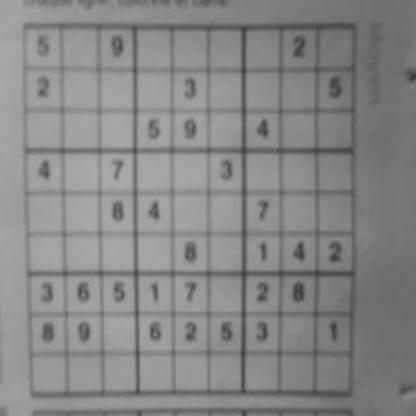sudoku: (19, 16, 360, 405)
